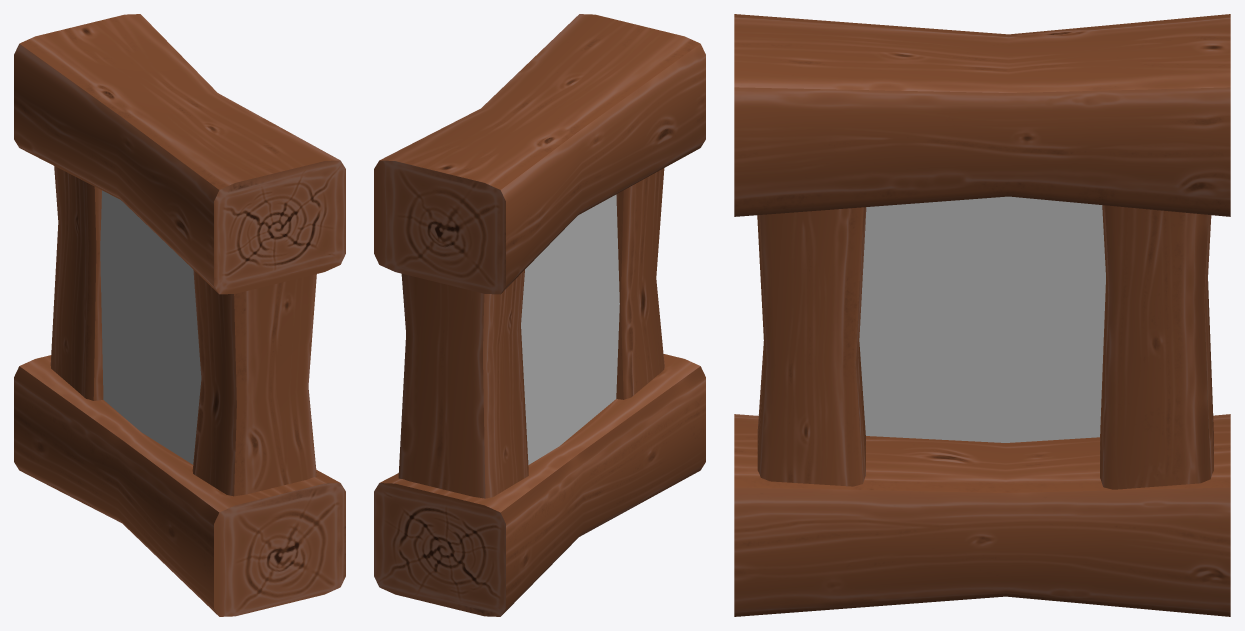
Rendered from SM_Window_02.fbx.
The picture shows the model from 3 angles, left to right: view 1: azimuth 30°, elevation 25°; view 2: azimuth 150°, elevation 25°; view 3: azimuth 270°, elevation 25°; orthographic projection. The views are drawn at different scales.
Parts seen in each view (by area): view 1: SM_Window_02_LOD0; view 2: SM_Window_02_LOD0; view 3: SM_Window_02_LOD0.
Boxes of the visible parts, x1,y1,x2,y2 form: SM_Window_02_LOD0: (14, 14, 345, 616); SM_Window_02_LOD0: (374, 14, 705, 616); SM_Window_02_LOD0: (734, 14, 1230, 616).
Bounding box in the file's own units: 74.71 × 196 × 235.
2 materials, 1 textured.
